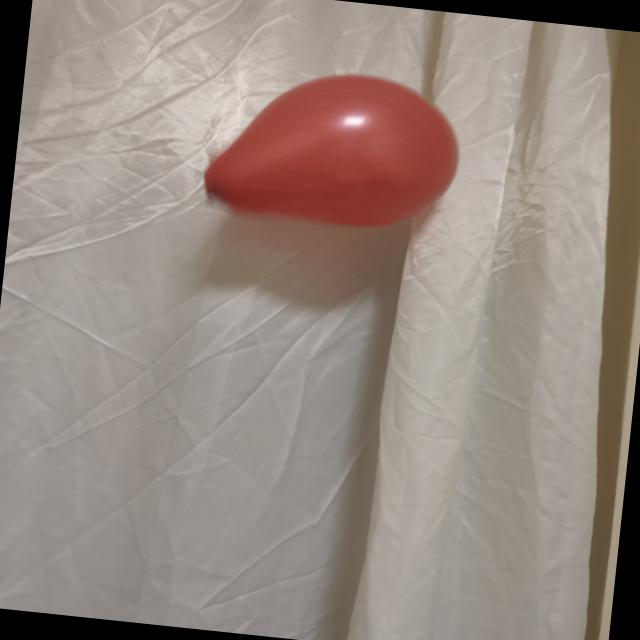balloon: (204, 75, 458, 226)
